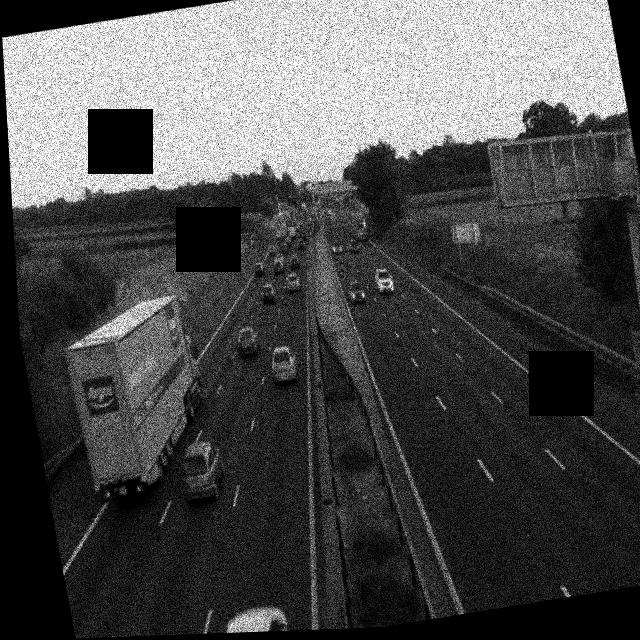car: (175, 437, 230, 504), (208, 601, 290, 634), (266, 342, 299, 383), (234, 324, 261, 357), (373, 265, 395, 296), (346, 276, 366, 305), (257, 280, 276, 304), (283, 268, 301, 291), (271, 259, 286, 277), (251, 260, 265, 278), (346, 238, 359, 254), (331, 240, 344, 255), (295, 235, 305, 250)
truck: (55, 290, 221, 501), (353, 212, 369, 240), (272, 215, 288, 242)
